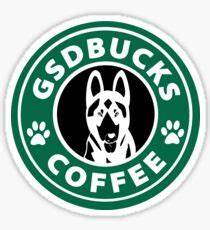starbucks Fake: (3, 11, 207, 219)
